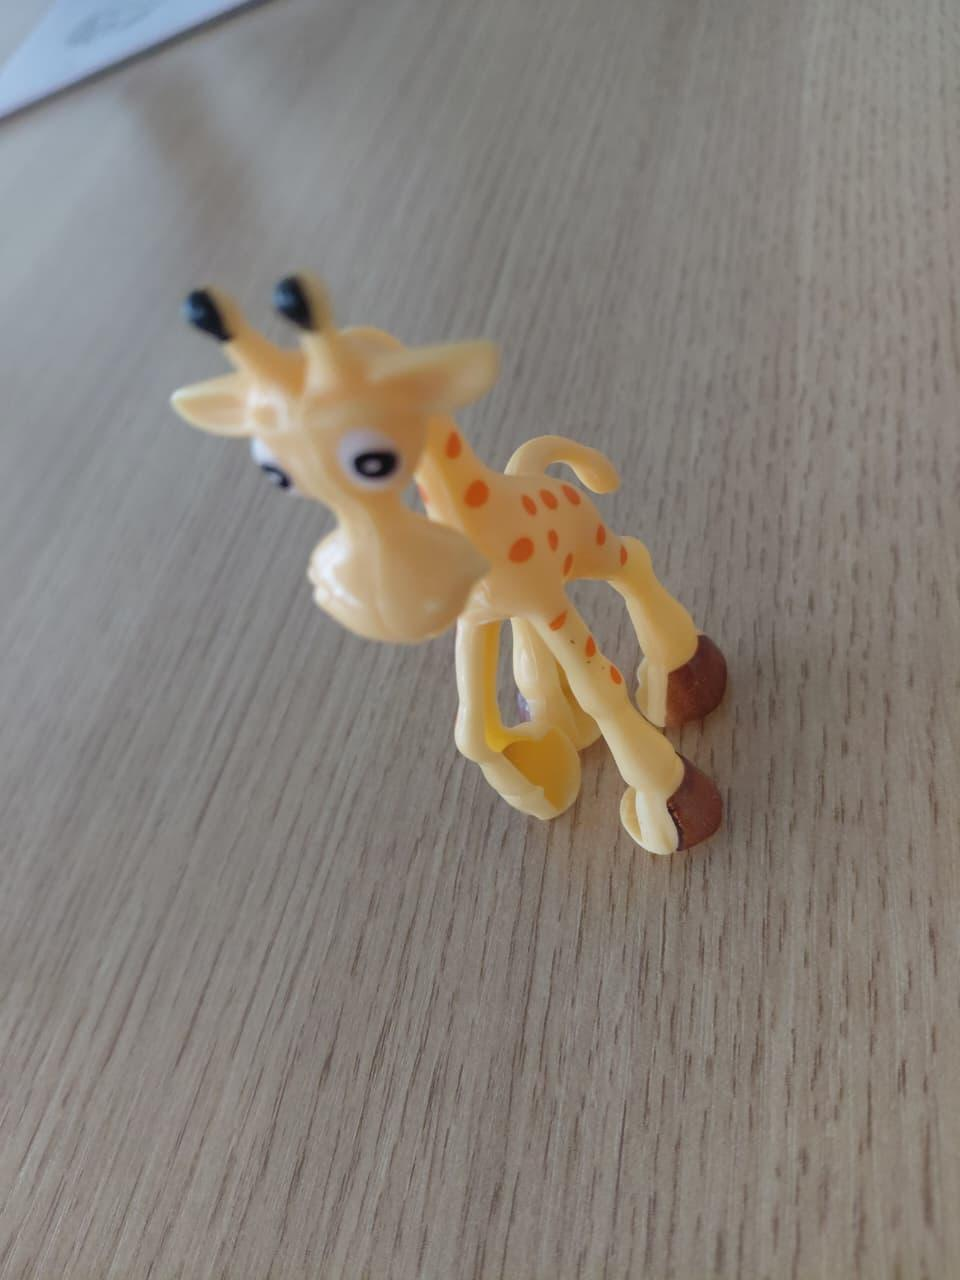giraffe: (152, 248, 754, 919)
